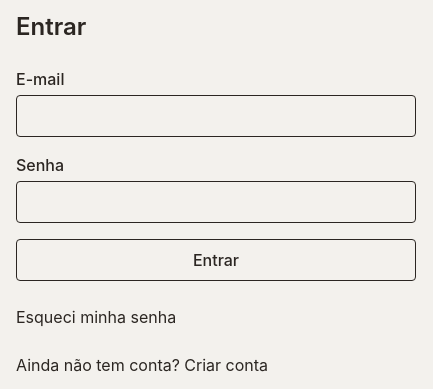
Test case: fluxo senha, código, entrada no app (AUTH-01, AUTH-04) › a senha não fica na tela depois do passo 1
Type "ana@exemplo.com.br" into the field labelled "E-mail".
click(216, 116); type("ana@exemplo.com.br")  # box [16,95,416,137]
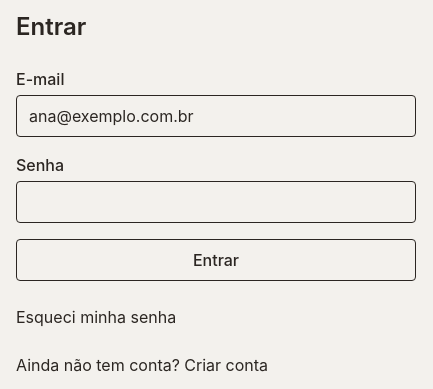
Type "cavalo-bateria-grampo-7" into the password field labelled "Senha".
click(216, 202); type("cavalo-bateria-grampo-7")  # box [16,181,416,223]
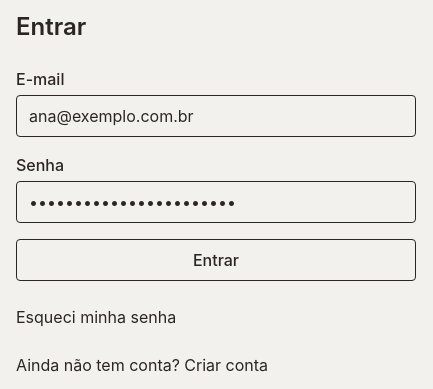
Click the button "Entrar".
click(216, 260)  # box [16,239,416,281]
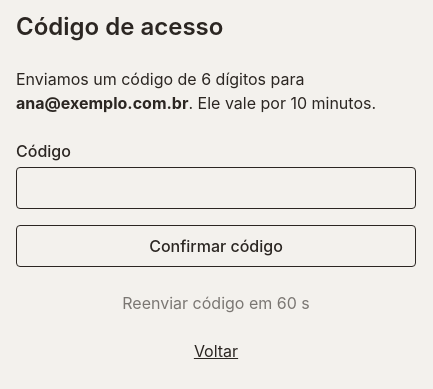
expect the label labelled "Senha" is gone: met
